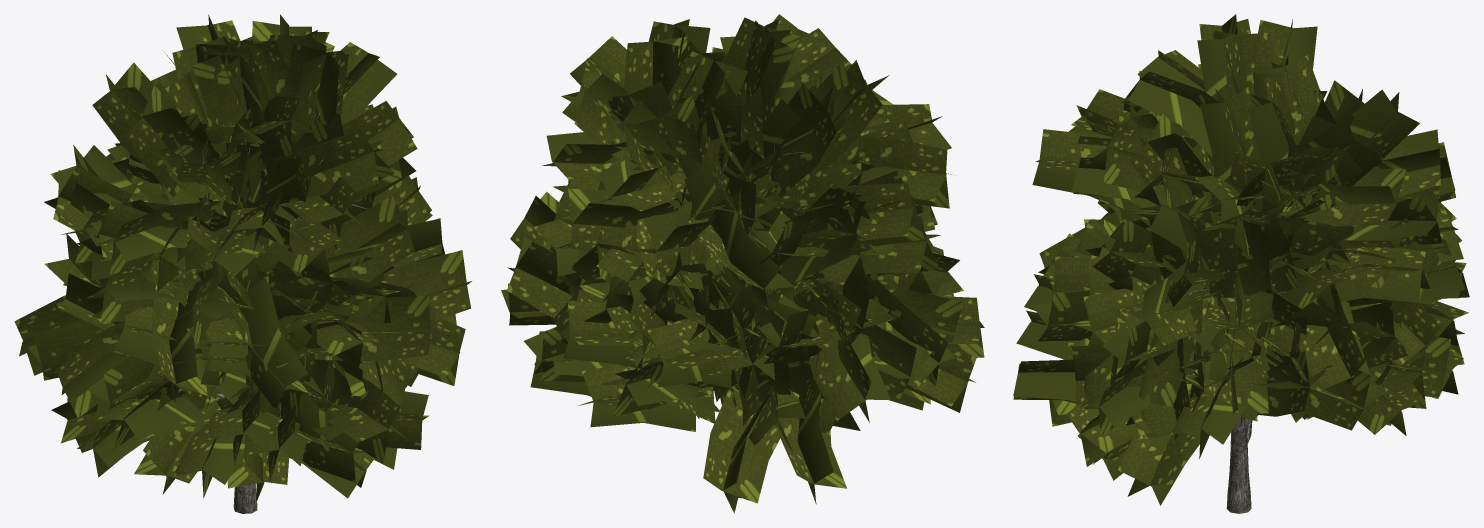
The model's file is SM_Tree_03.FBX.
The picture shows the model from 3 angles, left to right: view 1: azimuth 30°, elevation 25°; view 2: azimuth 150°, elevation 25°; view 3: azimuth 270°, elevation 25°; orthographic projection.
Parts seen in each view (by area): view 1: SM_Tree_03_LOD0; view 2: SM_Tree_03_LOD0; view 3: SM_Tree_03_LOD0.
Part boxes in pixels (box(x1,y1,x2,y2)): SM_Tree_03_LOD0: box(14, 14, 471, 513); SM_Tree_03_LOD0: box(501, 14, 984, 513); SM_Tree_03_LOD0: box(1013, 14, 1469, 513).
Size of what is drawn, in the model's own units: 2354 by 2335 by 2634.
3 materials, 3 textured.
